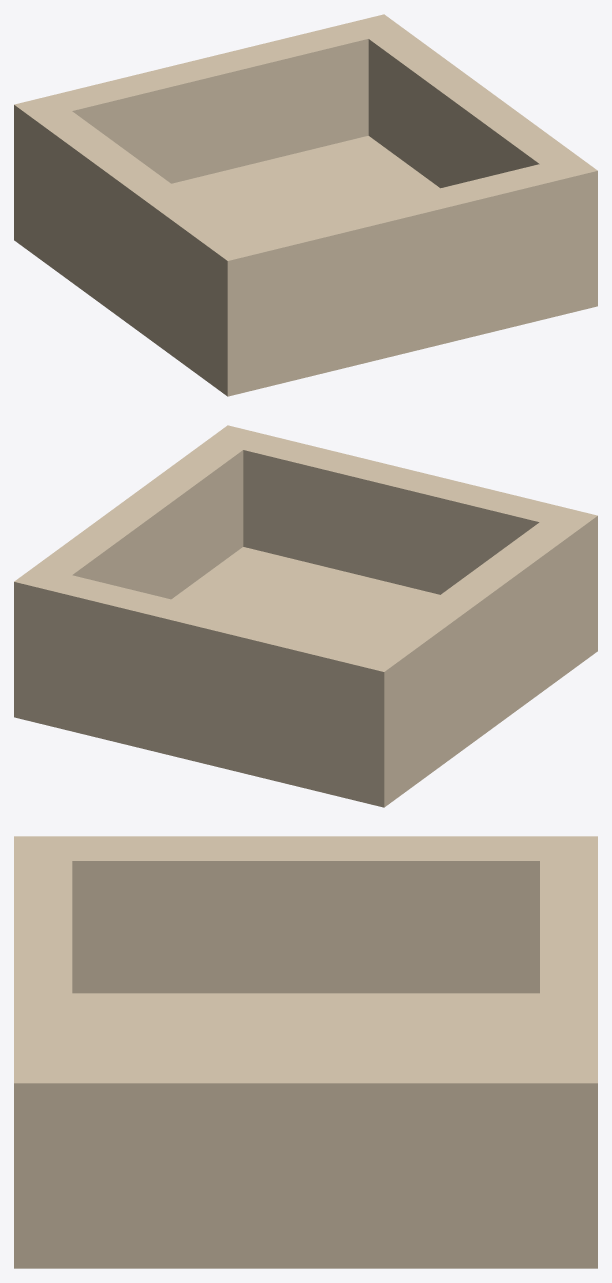
Rendered from CreamRoof_4Edges_Small.glb.
3 renders of one model, top to bottom at view 1: azimuth 30°, elevation 25°; view 2: azimuth 150°, elevation 25°; view 3: azimuth 270°, elevation 25°, orthographic. The views are drawn at different scales.
Parts seen in each view (by area): view 1: roof_flat_4Edges_small_cream; view 2: roof_flat_4Edges_small_cream; view 3: roof_flat_4Edges_small_cream.
Boxes of the visible parts, x1,y1,x2,y2 form: roof_flat_4Edges_small_cream: [14, 14, 597, 396]; roof_flat_4Edges_small_cream: [14, 425, 597, 807]; roof_flat_4Edges_small_cream: [14, 836, 597, 1268].
Size of what is drawn, in the model's own units: 2 by 0.7 by 2.
Materials: 1 (1 with a texture image).
